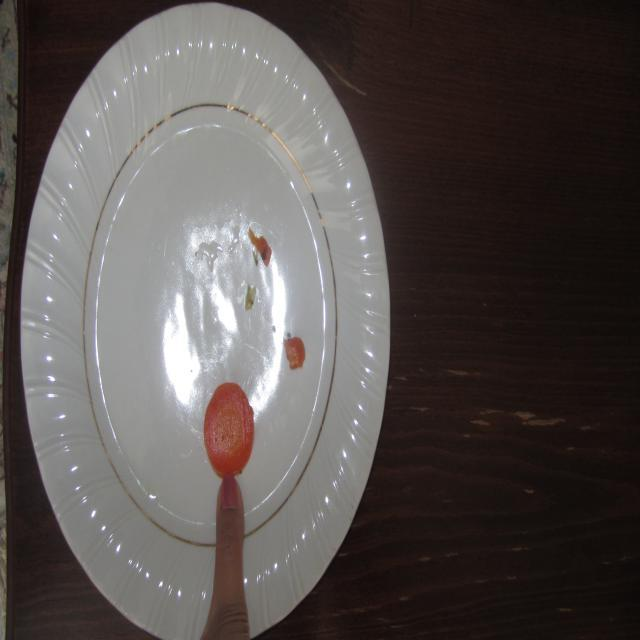Carrot: (198, 380, 260, 480)
Finger: (208, 470, 252, 580)
